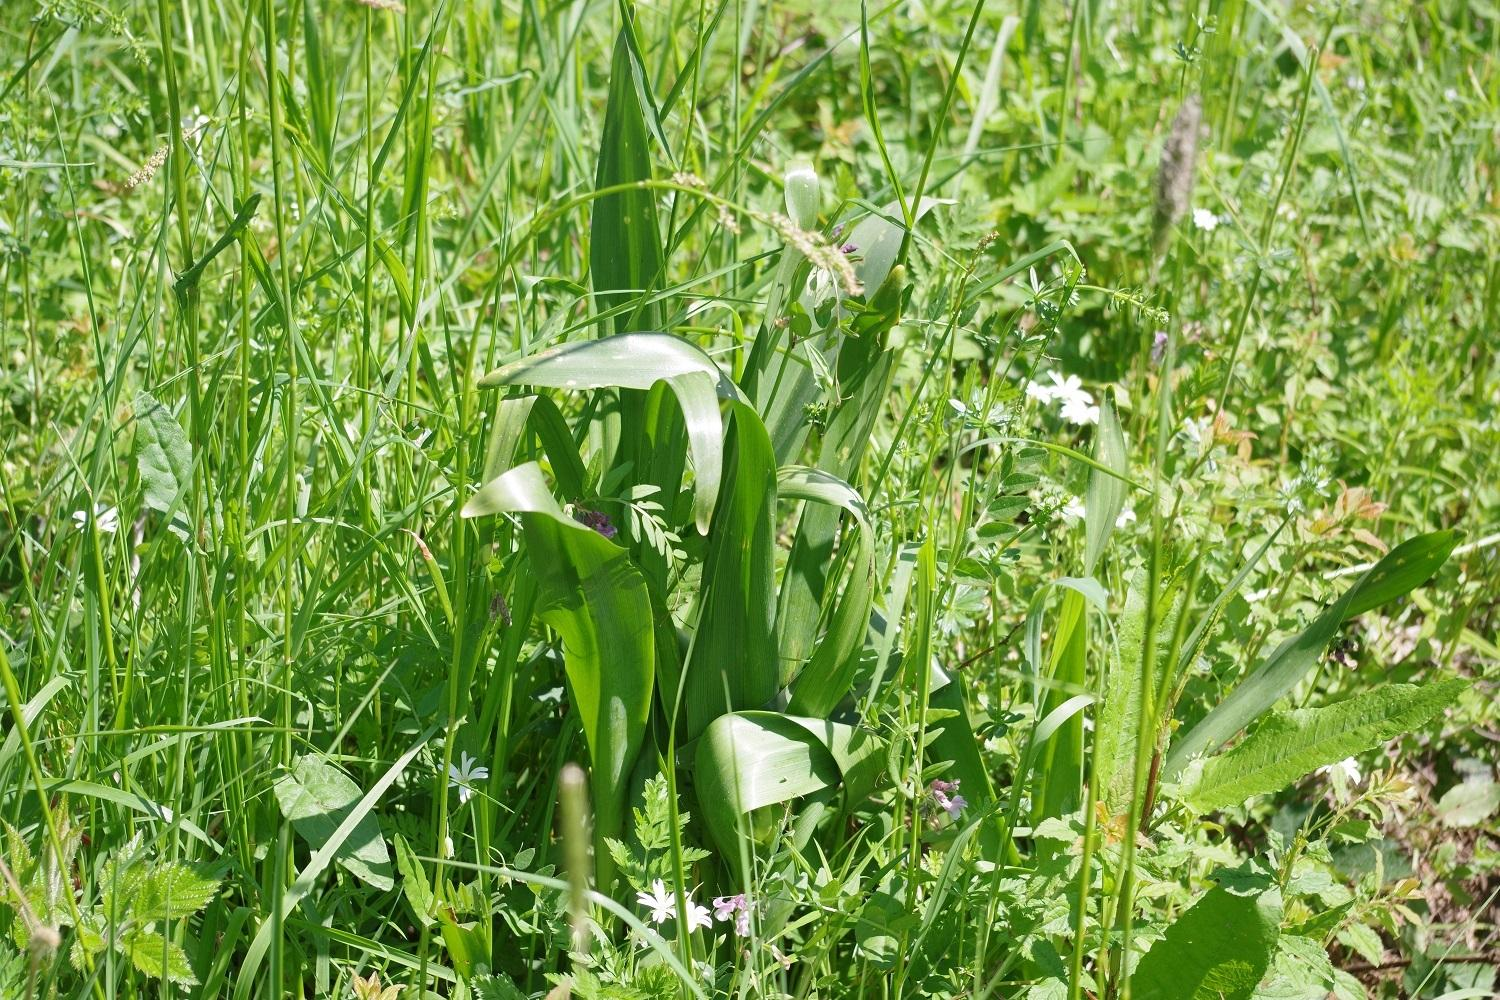Colchicum autumnale L: (474, 25, 937, 874)
